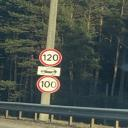speed_limit_100: (35, 75, 62, 94)
speed_limit_120: (39, 49, 62, 67)
